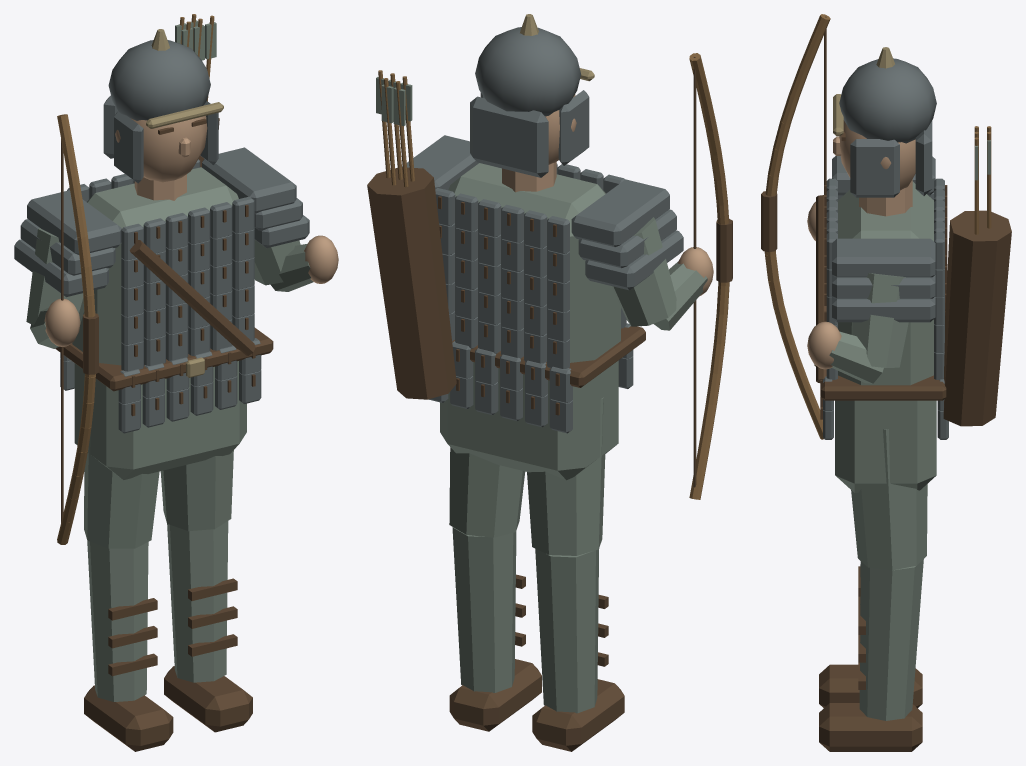
File: han-archer.glb
The picture shows the model from 3 angles, left to right: view 1: azimuth 30°, elevation 25°; view 2: azimuth 150°, elevation 25°; view 3: azimuth 270°, elevation 25°; orthographic projection. The views are drawn at different scales.
Visible parts, largest first — view 1: linen-tunic, iron-lamellar, leather, skin, spear-wood, worn-bronze; view 2: linen-tunic, iron-lamellar, leather, spear-wood, skin; view 3: linen-tunic, leather, iron-lamellar, spear-wood, skin, worn-bronze.
Boxes of the visible parts, left/top/right/bottom form: linen-tunic: left=26, top=20, right=313, bottom=701; iron-lamellar: left=14, top=40, right=309, bottom=433; leather: left=55, top=115, right=273, bottom=751; skin: left=44, top=116, right=338, bottom=346; spear-wood: left=57, top=14, right=214, bottom=544; worn-bronze: left=146, top=29, right=223, bottom=377; linen-tunic: left=376, top=77, right=707, bottom=713; iron-lamellar: left=402, top=27, right=683, bottom=433; leather: left=367, top=57, right=732, bottom=751; spear-wood: left=378, top=53, right=729, bottom=499; skin: left=502, top=94, right=713, bottom=296; linen-tunic: left=829, top=140, right=990, bottom=720; leather: left=761, top=16, right=1011, bottom=751; iron-lamellar: left=823, top=58, right=948, bottom=439; spear-wood: left=764, top=14, right=991, bottom=439; skin: left=807, top=120, right=915, bottom=369; worn-bronze: left=814, top=47, right=894, bottom=366.
Bounding box in the file's own units: 0.762 × 1.73 × 0.5806.
